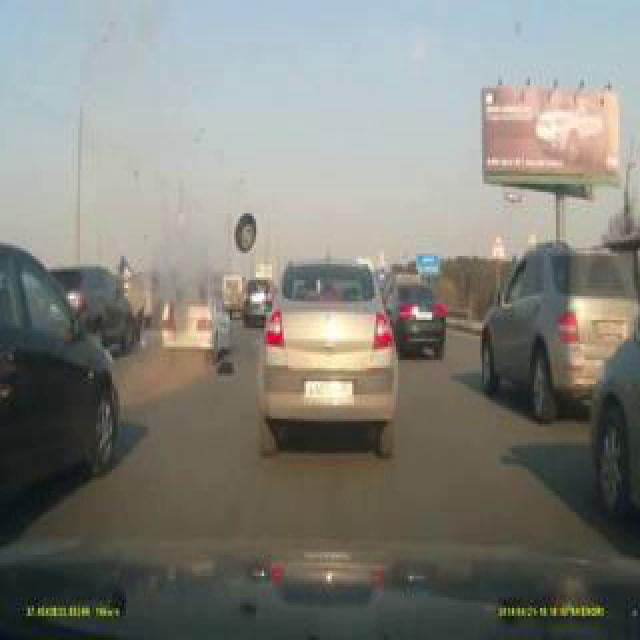explosion: (234, 0, 590, 592)
